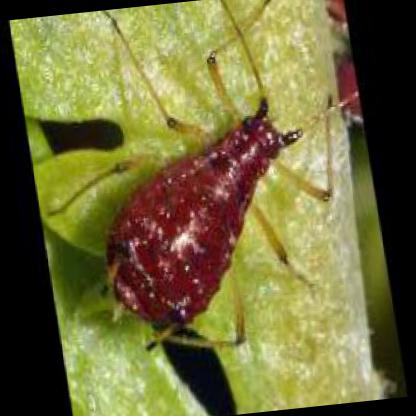uroleucon compositae: (81, 3, 327, 337)
